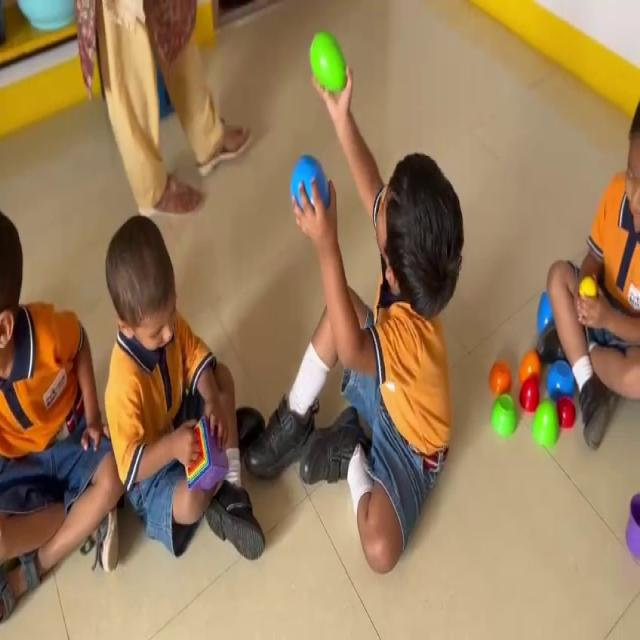child: (252, 30, 463, 582), (80, 224, 241, 572), (515, 118, 640, 481)
